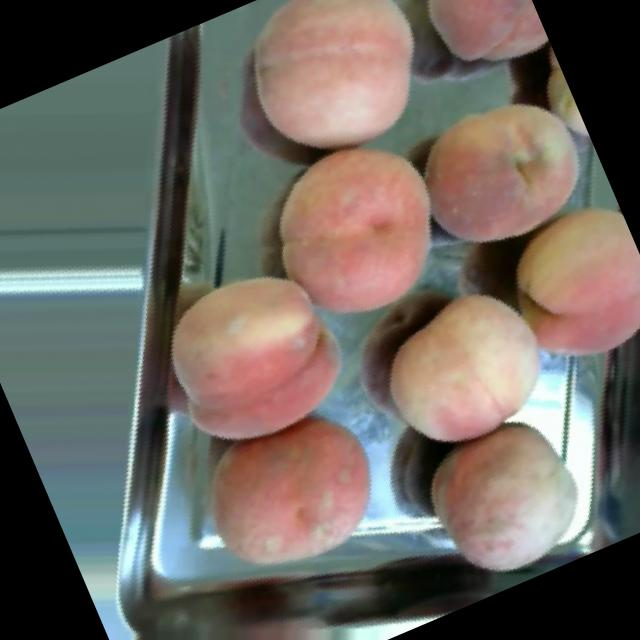Fruit: (117, 223, 380, 481), (228, 103, 480, 357), (163, 378, 420, 616), (374, 52, 618, 278), (340, 249, 575, 469), (205, 0, 467, 196), (396, 398, 620, 610), (476, 192, 640, 405), (374, 0, 559, 113)
